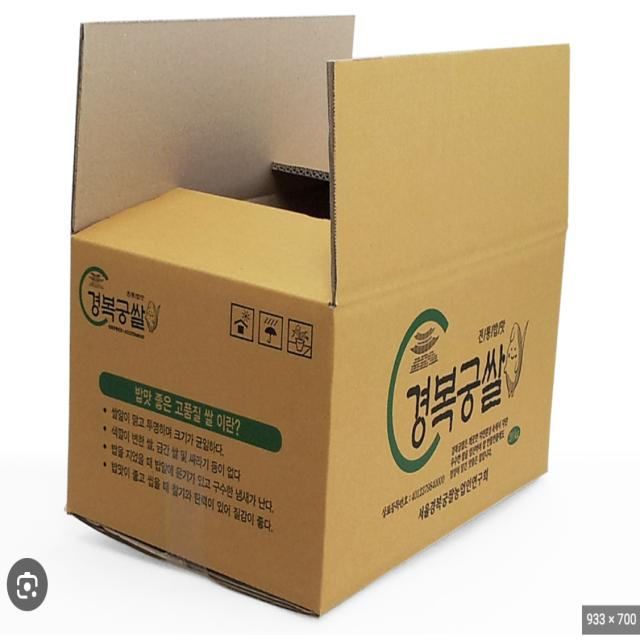biodegradable: (48, 4, 602, 624)
